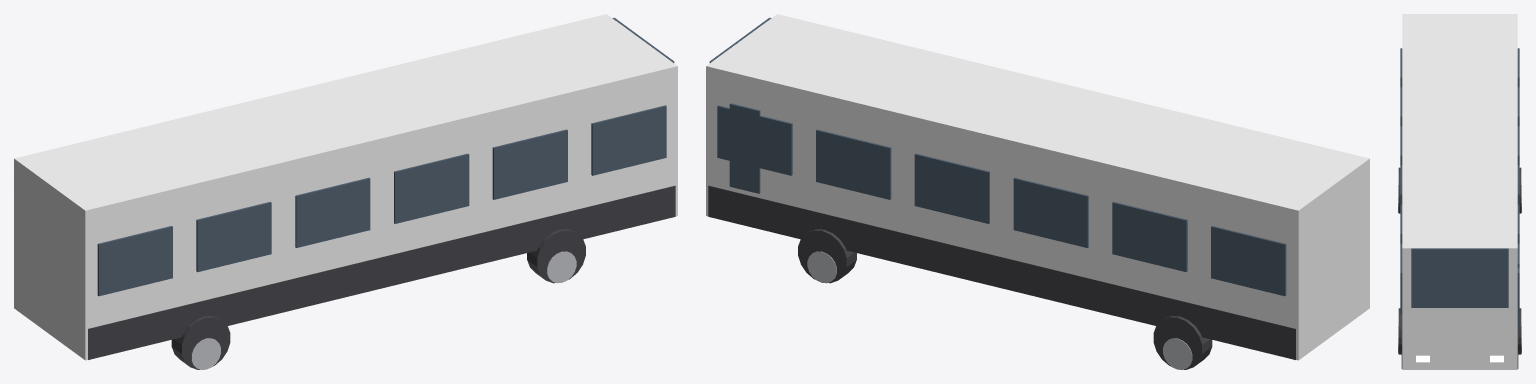
File: bus.glb
The picture shows the model from 3 angles, left to right: view 1: azimuth 30°, elevation 25°; view 2: azimuth 150°, elevation 25°; view 3: azimuth 270°, elevation 25°; orthographic projection. The views are drawn at different scales.
Parts seen in each view (by area): view 1: Cube, Cube.001, Cube.005, Cube.007, Cube.011, Cube.009, Cube.013, Cube.003, Cylinder, Cylinder.004, Cylinder.005, Cylinder.001; view 2: Cube, Cube.001, Cube.004, Cube.006, Cube.010, Cube.008, Cube.002, Cube.012, Cube.015, Cylinder.002, Cylinder.006, Cylinder.007 (+1 smaller); view 3: Cube, Cube.014, Cube.013, Cube.001, Cylinder.004, Cube.012, Cylinder.006, Cylinder, Cylinder.002, Cube.008, Cube.009, Cube.002 (+7 smaller).
Part boxes in pixels (x1,y1,x2,y2): Cube: (14,14,677,360); Cube.001: (88,185,675,359); Cube.005: (196,201,271,272); Cube.007: (295,177,370,247); Cube.011: (492,129,567,199); Cube.009: (394,153,469,223); Cube.013: (591,105,666,175); Cube.003: (97,226,172,296); Cylinder: (171,316,230,369); Cylinder.004: (527,229,585,283); Cylinder.005: (547,251,576,283); Cylinder.001: (191,338,220,369); Cube: (706,14,1369,360); Cube.001: (708,185,1295,359); Cube.004: (1112,201,1187,272); Cube.006: (1013,177,1088,247); Cube.010: (816,129,891,199); Cube.008: (914,153,989,223); Cube.002: (1211,226,1286,296); Cube.012: (717,105,792,175); Cube.015: (729,103,760,193); Cylinder.002: (1153,316,1212,369); Cylinder.006: (798,229,856,283); Cylinder.007: (807,251,836,283); Cube: (1402,14,1517,369); Cube.014: (1411,248,1508,307); Cube.013: (1400,243,1402,314); Cube.001: (1401,315,1518,368); Cylinder.004: (1398,308,1401,354); Cube.012: (1517,243,1519,314); Cylinder.006: (1518,308,1521,354); Cylinder: (1398,167,1400,213); Cylinder.002: (1519,167,1521,213); Cube.008: (1517,165,1519,204); Cube.009: (1400,165,1402,204); Cube.002: (1517,48,1519,87).
Size of the model in its own units: 12.04 by 3.6 by 2.68.
